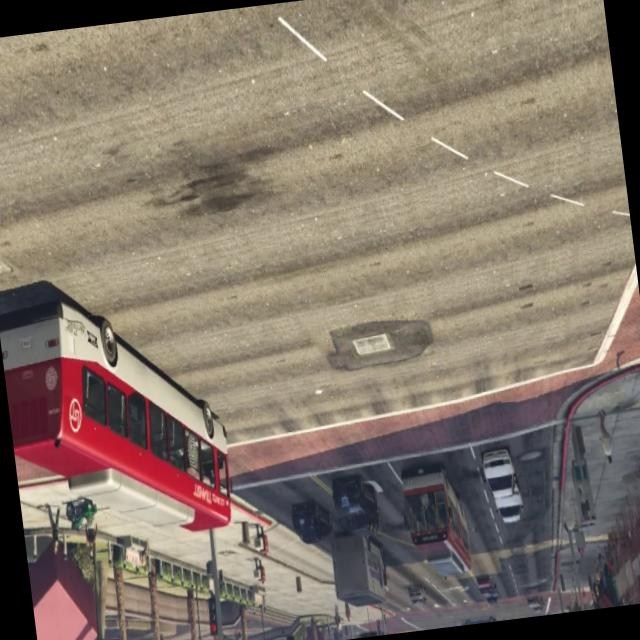Red-Signal: (200, 589, 225, 640), (352, 620, 384, 638), (279, 622, 299, 640)
